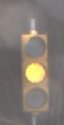Yellow: (12, 20, 53, 121)
